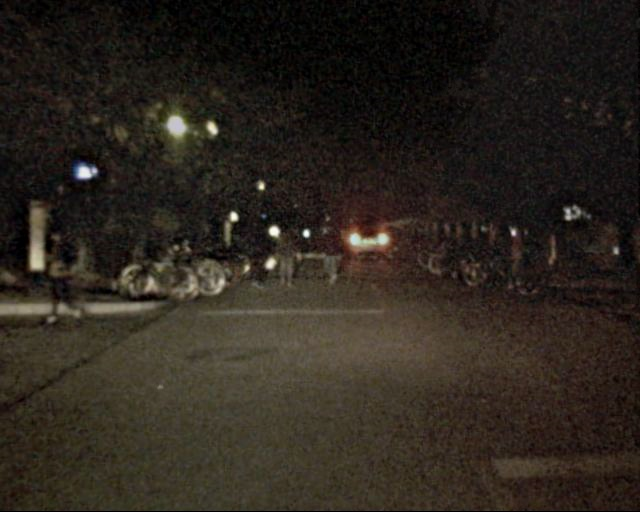person: (43, 222, 91, 325), (314, 221, 343, 289), (243, 217, 270, 288), (276, 221, 302, 293)
